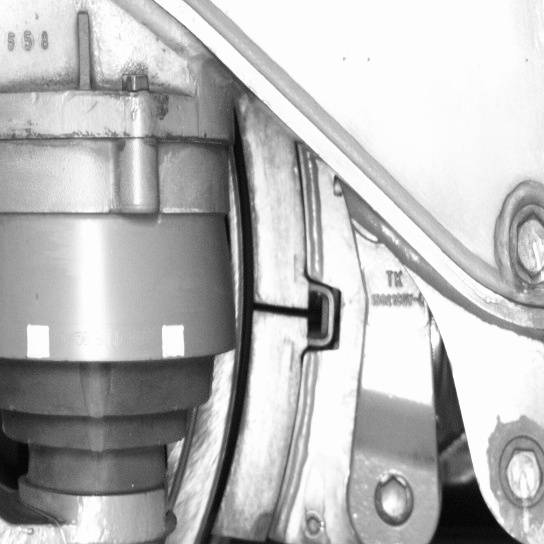KnifeSwitch: (191, 138, 313, 542)
